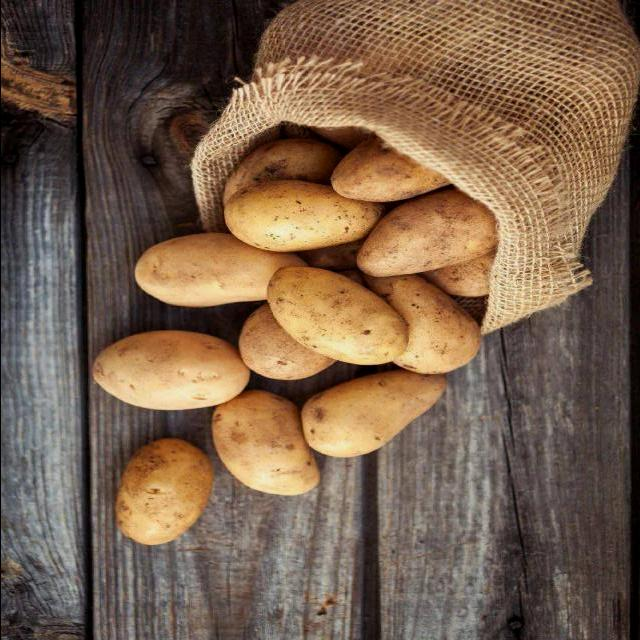potato: (303, 372, 451, 467), (88, 331, 248, 415), (271, 265, 399, 368), (205, 391, 325, 499), (135, 237, 297, 313), (356, 199, 497, 280), (220, 140, 342, 232), (111, 437, 211, 549), (382, 281, 482, 376), (329, 138, 459, 206), (224, 189, 374, 247)
